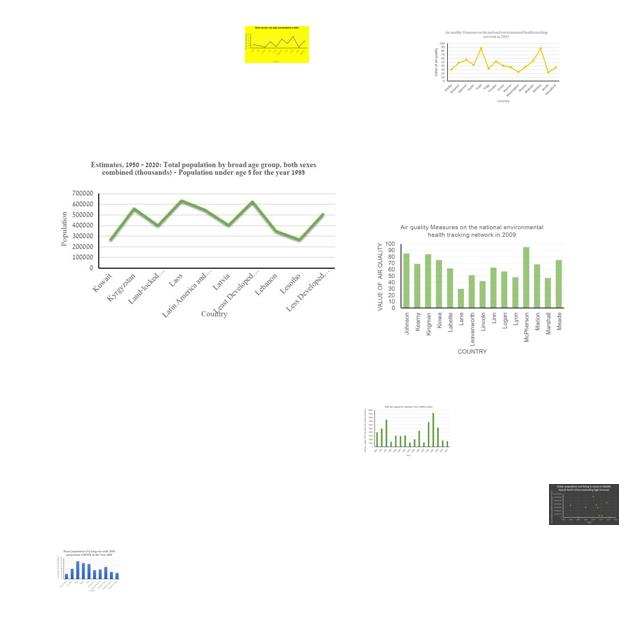Graph: (55, 157, 338, 320), (372, 220, 568, 358), (431, 28, 561, 105), (363, 404, 451, 457), (549, 484, 619, 525), (56, 549, 121, 592), (245, 26, 309, 63)
